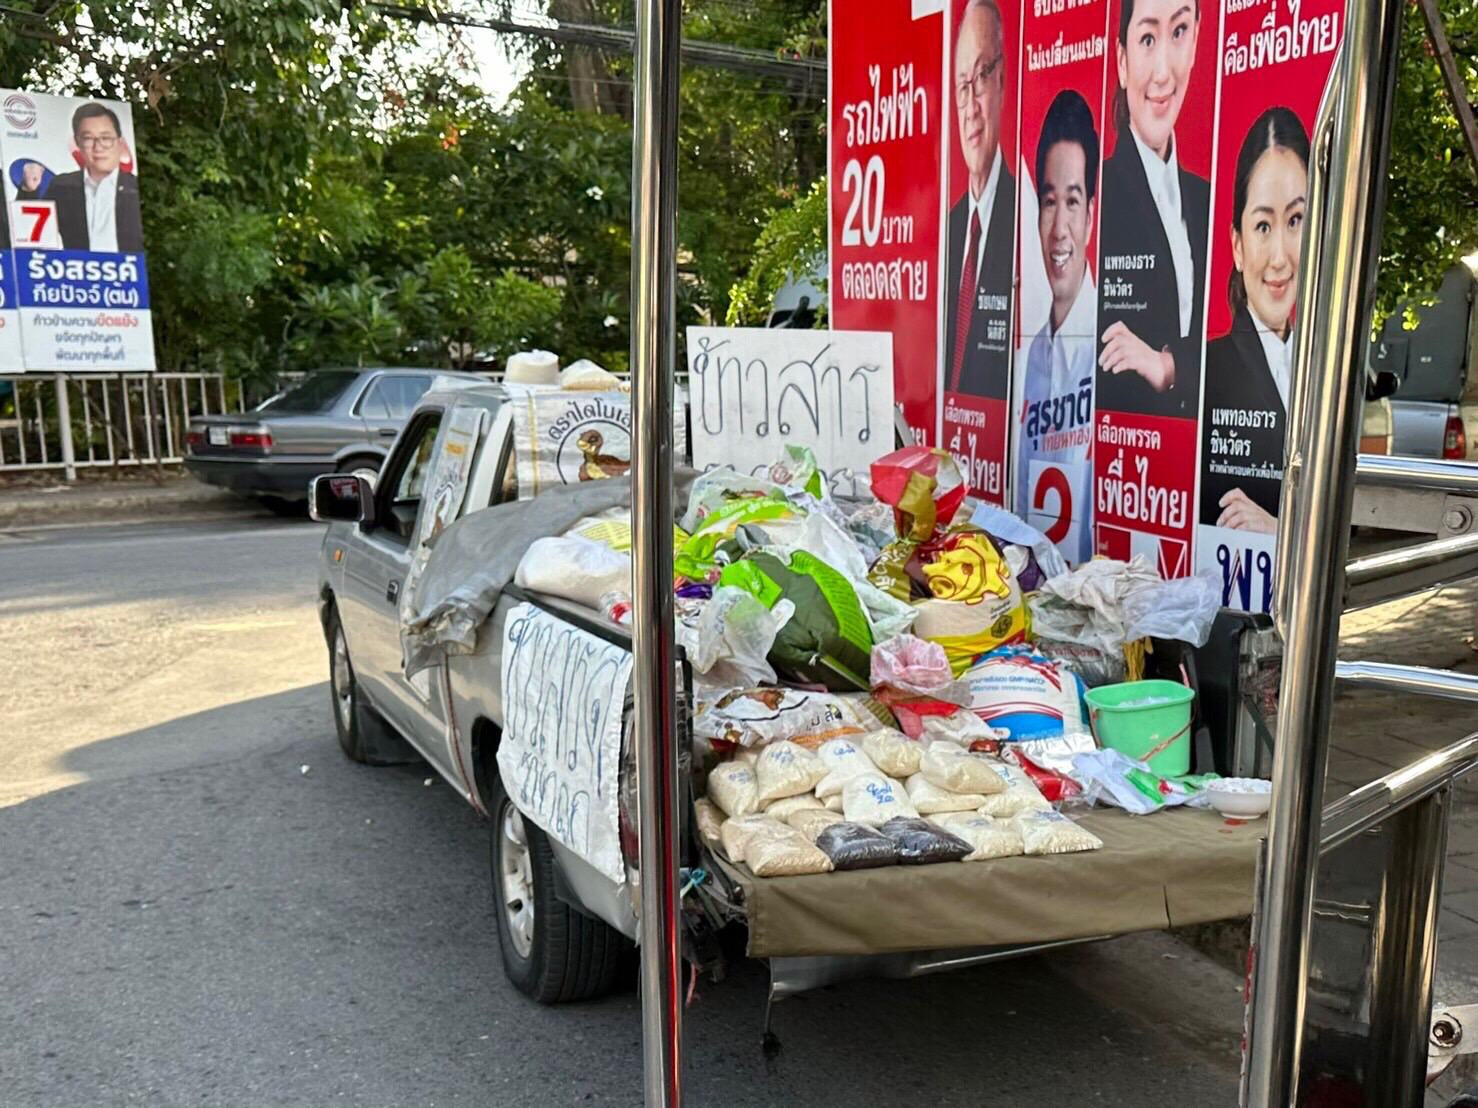Banner: (1198, 0, 1342, 635), (1, 87, 159, 381)
